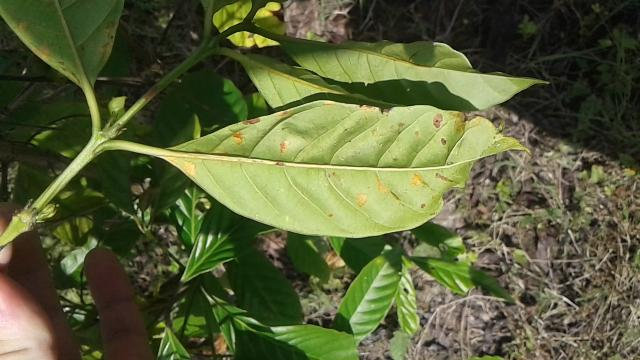rust_level_1: (162, 99, 536, 238)
